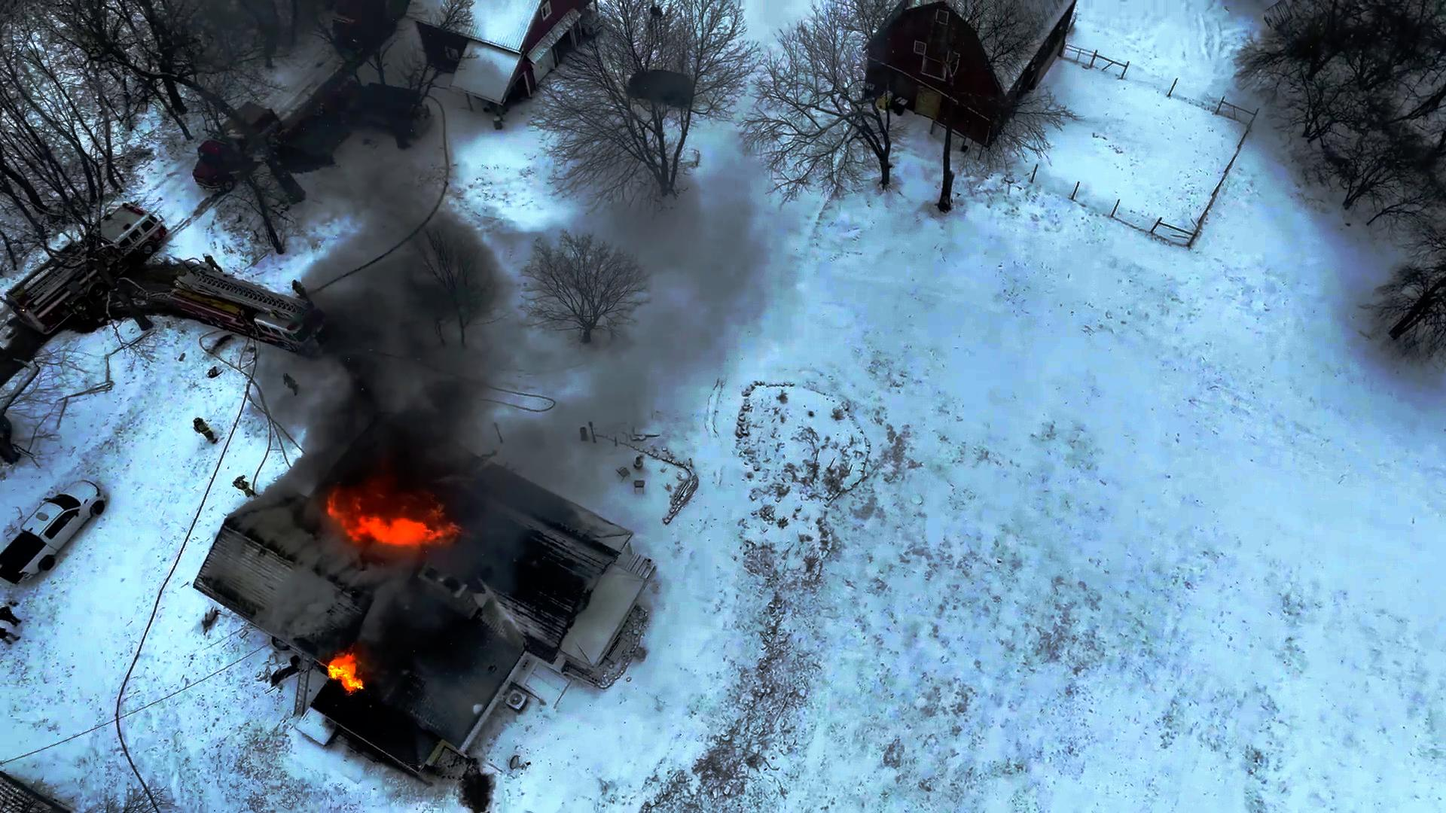fire: (326, 458, 453, 554), (313, 636, 364, 687)
smoke: (320, 294, 478, 429)
